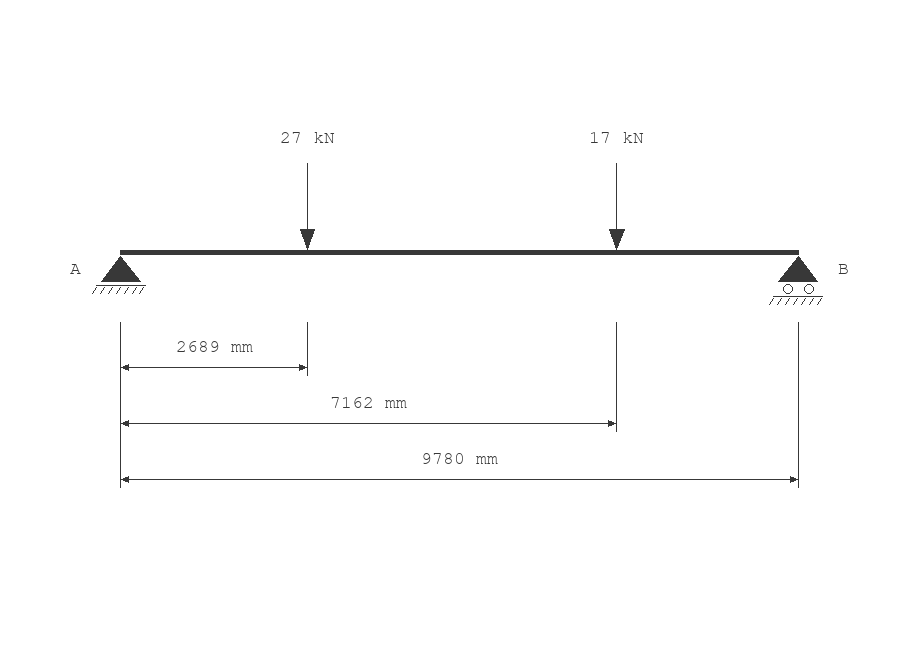pin_support: (92, 256, 146, 294)
point_load: (609, 163, 625, 250), (300, 163, 315, 250)
roller_support: (769, 256, 823, 305)
